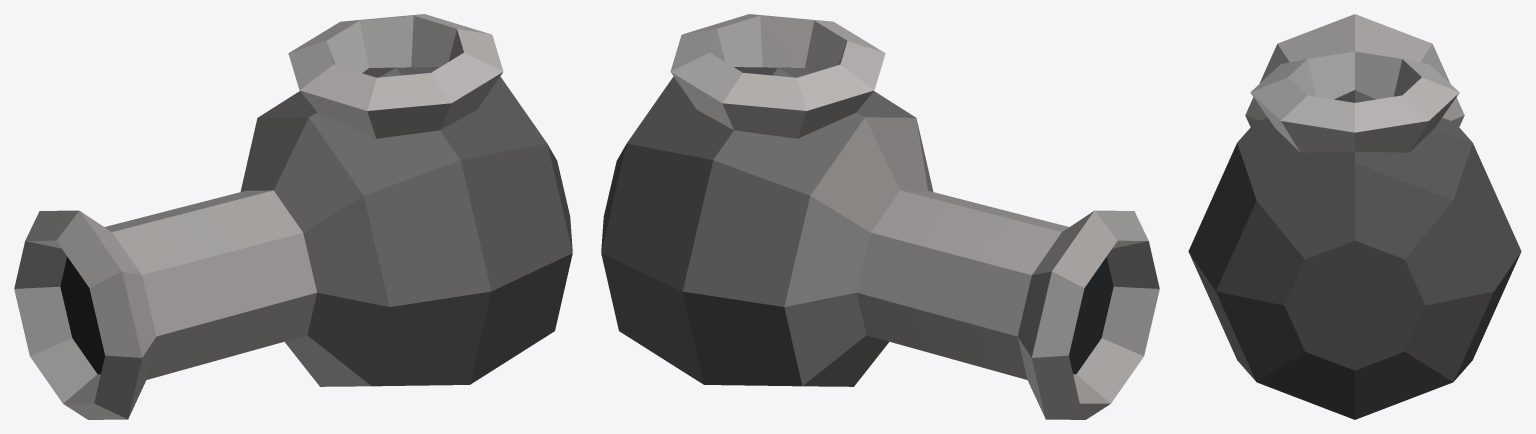
The model's file is SM_Prop_SmokePipe.glb.
3 views of the same model, side by side, from view 1: azimuth 30°, elevation 25°; view 2: azimuth 150°, elevation 25°; view 3: azimuth 270°, elevation 25° (orthographic). The views are drawn at different scales.
Visible parts, largest first — view 1: SM_Prop_SmokePipe_01.006; view 2: SM_Prop_SmokePipe_01.006; view 3: SM_Prop_SmokePipe_01.006.
Part boxes in pixels (x1,y1,x2,y2): SM_Prop_SmokePipe_01.006: (14, 14, 572, 419); SM_Prop_SmokePipe_01.006: (601, 14, 1159, 419); SM_Prop_SmokePipe_01.006: (1188, 14, 1521, 419).
Size of the model in its own units: 0.4249 by 0.2923 by 0.2722.
1 material, 1 textured.
